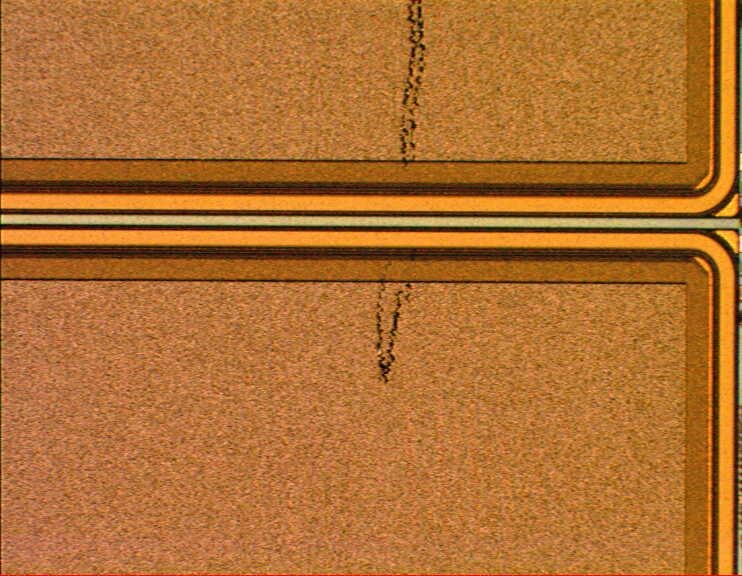SCRATCH: (360, 1, 437, 394)
